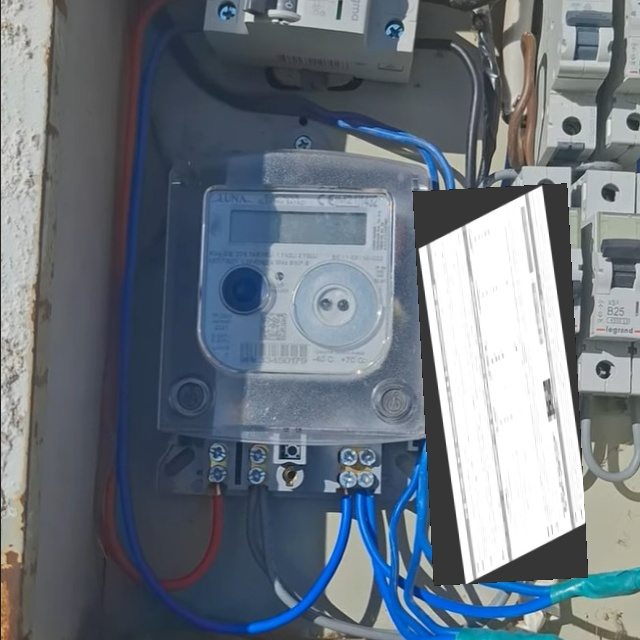electricity-bill: (412, 183, 588, 585)
